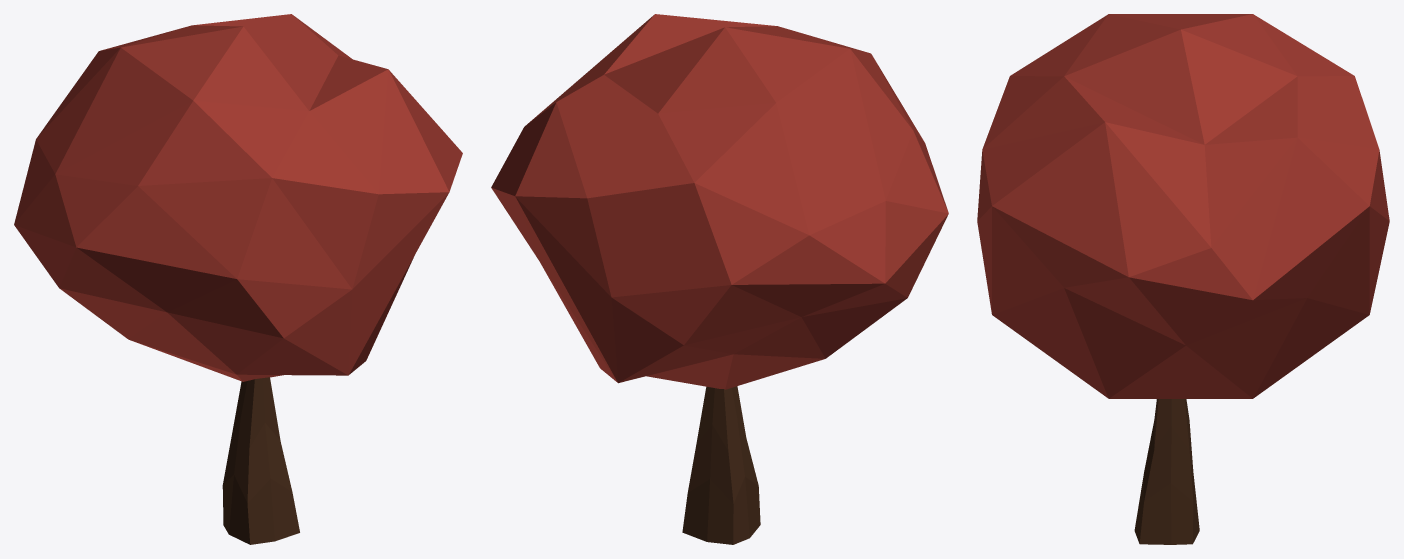
The model's file is Tree_48_Red.fbx.
3 views of the same model, side by side, from view 1: azimuth 30°, elevation 25°; view 2: azimuth 150°, elevation 25°; view 3: azimuth 270°, elevation 25° (orthographic). The views are drawn at different scales.
Parts seen in each view (by area): view 1: Tree_48_Red_Part_1, Tree_48_Red_Part_2; view 2: Tree_48_Red_Part_1, Tree_48_Red_Part_2; view 3: Tree_48_Red_Part_1, Tree_48_Red_Part_2.
Boxes of the visible parts, x1,y1,x2,y2 form: Tree_48_Red_Part_1: (14,14,462,381); Tree_48_Red_Part_2: (222,377,299,544); Tree_48_Red_Part_1: (491,14,948,389); Tree_48_Red_Part_2: (682,386,760,544); Tree_48_Red_Part_1: (977,14,1389,398); Tree_48_Red_Part_2: (1134,399,1199,544).
Size of the model in its own units: 564 by 696 by 524.
